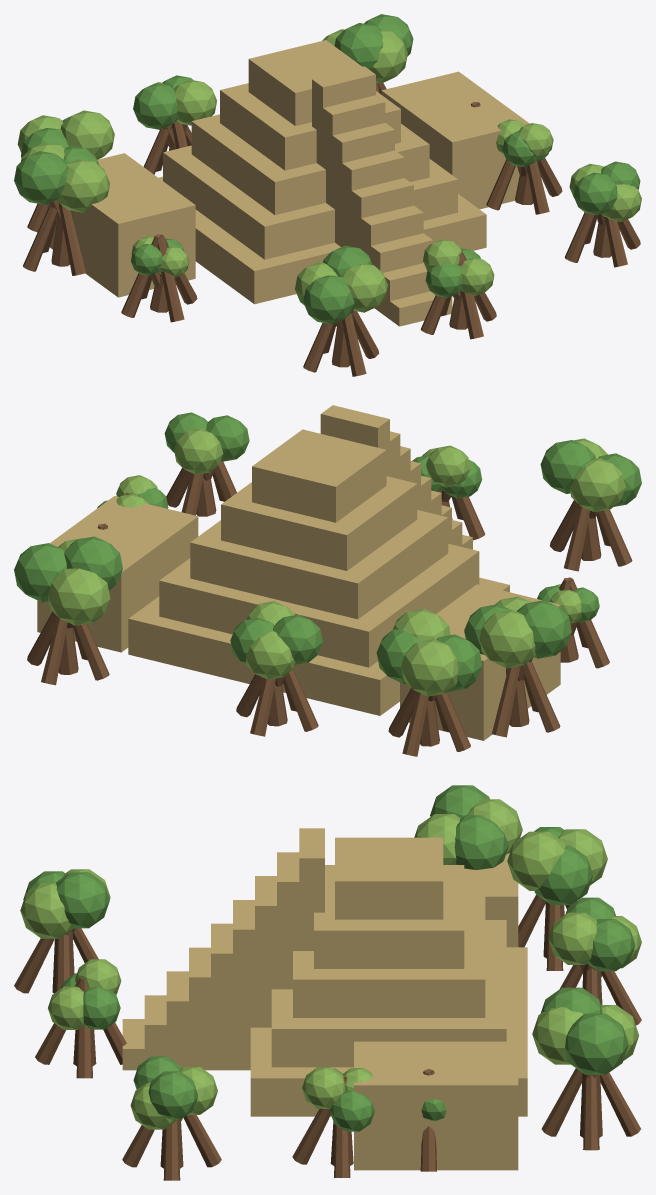
The model's file is FEATURE_PAITITI.fbx.
3 views of the same model, one above another, from view 1: azimuth 30°, elevation 25°; view 2: azimuth 150°, elevation 25°; view 3: azimuth 270°, elevation 25° (orthographic). The views are drawn at different scales.
Parts seen in each view (by area): view 1: Temple_terrace.001, Ruined_hall, Ruined_hall.001, Temple_terrace, Temple_terrace.002, Temple_terrace.003, Temple_terrace.004, Temple_stair.006, Temple_stair.005, Temple_stair.008, Temple_stair.007, Broadleaf_crown.178 (+44 smaller); view 2: Temple_terrace.002, Temple_terrace.001, Temple_terrace, Temple_terrace.003, Ruined_hall.001, Temple_terrace.004, Ruined_hall, Broadleaf_crown.153, Broadleaf_crown.145, Broadleaf_crown.177, Temple_stair.008, Broadleaf_crown.169 (+46 smaller); view 3: Ruined_hall.001, Temple_terrace.002, Temple_terrace.001, Temple_terrace.003, Temple_terrace.004, Temple_terrace, Temple_stair.004, Temple_stair.005, Temple_stair.006, Broadleaf_crown.152, Temple_stair.007, Temple_stair.003 (+45 smaller).
Part boxes in pixels (x1=…): Temple_terrace.001: x1=163, y1=145, x2=457, y2=259; Ruined_hall: x1=47, y1=153, x2=195, y2=297; Ruined_hall.001: x1=381, y1=71, x2=529, y2=209; Temple_terrace: x1=158, y1=176, x2=486, y2=304; Temple_terrace.002: x1=191, y1=114, x2=429, y2=214; Temple_terrace.003: x1=220, y1=83, x2=400, y2=170; Temple_terrace.004: x1=248, y1=40, x2=362, y2=125; Temple_stair.006: x1=331, y1=123, x2=394, y2=246; Temple_stair.005: x1=340, y1=150, x2=404, y2=246; Temple_stair.008: x1=312, y1=66, x2=375, y2=166; Temple_stair.007: x1=321, y1=95, x2=385, y2=206; Broadleaf_crown.178: x1=14, y1=151, x2=67, y2=204; Temple_terrace.002: x1=190, y1=510, x2=448, y2=619; Temple_terrace.001: x1=159, y1=543, x2=479, y2=667; Temple_terrace: x1=128, y1=577, x2=509, y2=715; Temple_terrace.003: x1=221, y1=476, x2=417, y2=570; Ruined_hall.001: x1=37, y1=496, x2=198, y2=652; Temple_terrace.004: x1=252, y1=429, x2=386, y2=522; Ruined_hall: x1=400, y1=584, x2=560, y2=740; Broadleaf_crown.153: x1=48, y1=568, x2=110, y2=625; Broadleaf_crown.145: x1=401, y1=639, x2=457, y2=696; Broadleaf_crown.177: x1=479, y1=609, x2=535, y2=668; Temple_stair.008: x1=320, y1=405, x2=389, y2=476; Broadleaf_crown.169: x1=570, y1=458, x2=625, y2=512; Ruined_hall.001: x1=354, y1=1041, x2=518, y2=1170; Temple_terrace.002: x1=293, y1=892, x2=485, y2=1017; Temple_terrace.001: x1=271, y1=920, x2=506, y2=1067; Temple_terrace.003: x1=314, y1=865, x2=464, y2=968; Temple_terrace.004: x1=335, y1=837, x2=443, y2=919; Temple_terrace: x1=250, y1=947, x2=527, y2=1116; Temple_stair.004: x1=211, y1=923, x2=236, y2=1070; Temple_stair.005: x1=233, y1=900, x2=258, y2=1070; Temple_stair.006: x1=255, y1=876, x2=280, y2=1027; Broadleaf_crown.152: x1=565, y1=1013, x2=628, y2=1074; Temple_stair.007: x1=277, y1=852, x2=302, y2=989; Temple_stair.003: x1=189, y1=947, x2=214, y2=1070.
Size of the model in its own units: 141 by 49.8 by 134.
